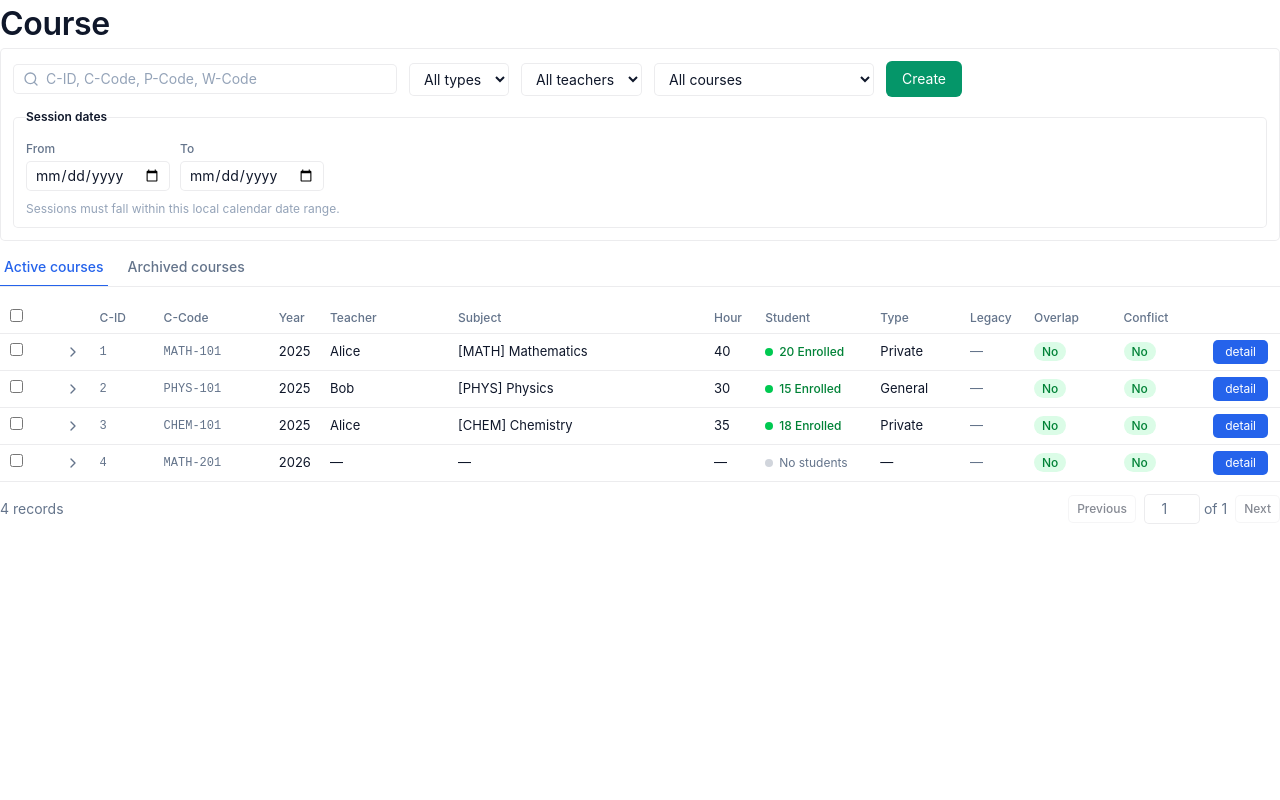
Courses bulk editor › shows partial failure details in toast
expect the text "MATH-101" is shown: met, box [164,344,221,360]
What coordinates should you click on to do the following:
click the checkbox named "Select MATH-101"
I would click on:
 (16, 350)
Its box is [10,343,23,356].
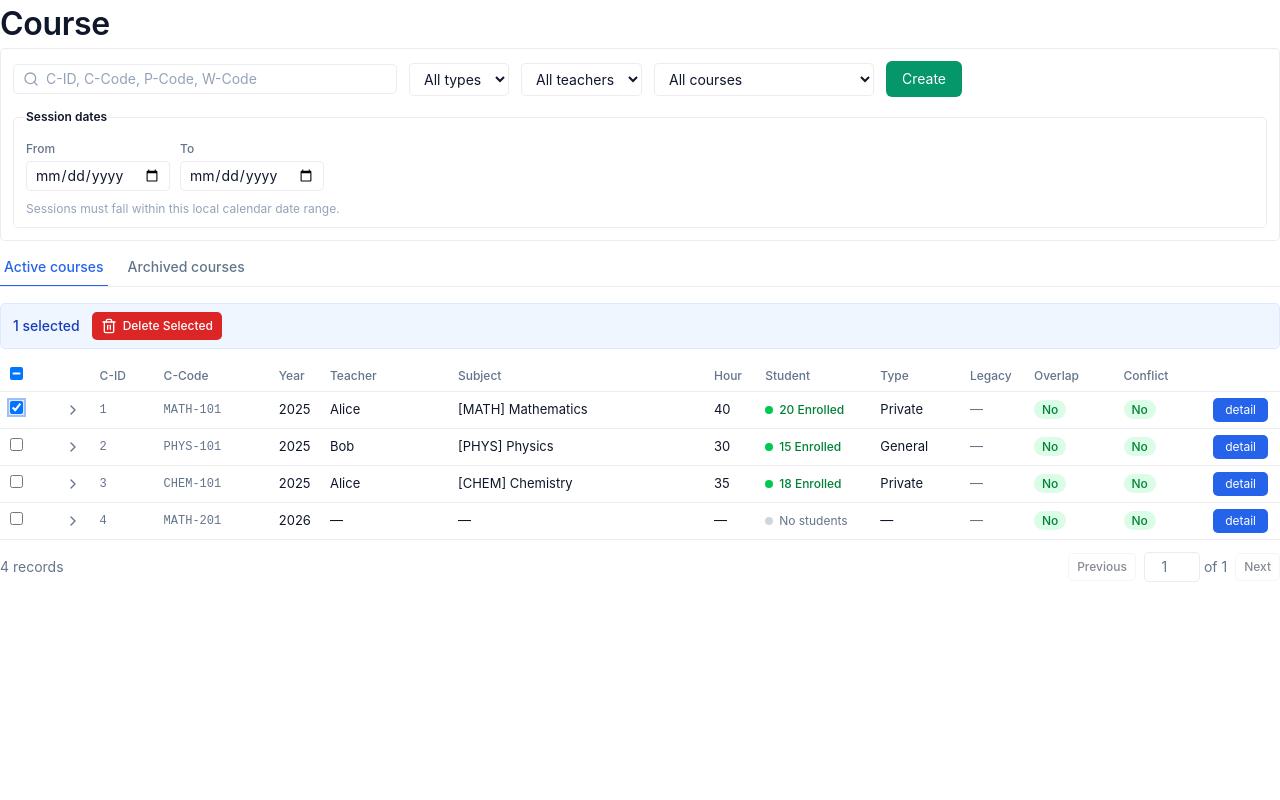
What coordinates should you click on to do the following:
click the checkbox named "Select PHYS-101"
I would click on:
 (16, 445)
Its box is [10,438,23,451].
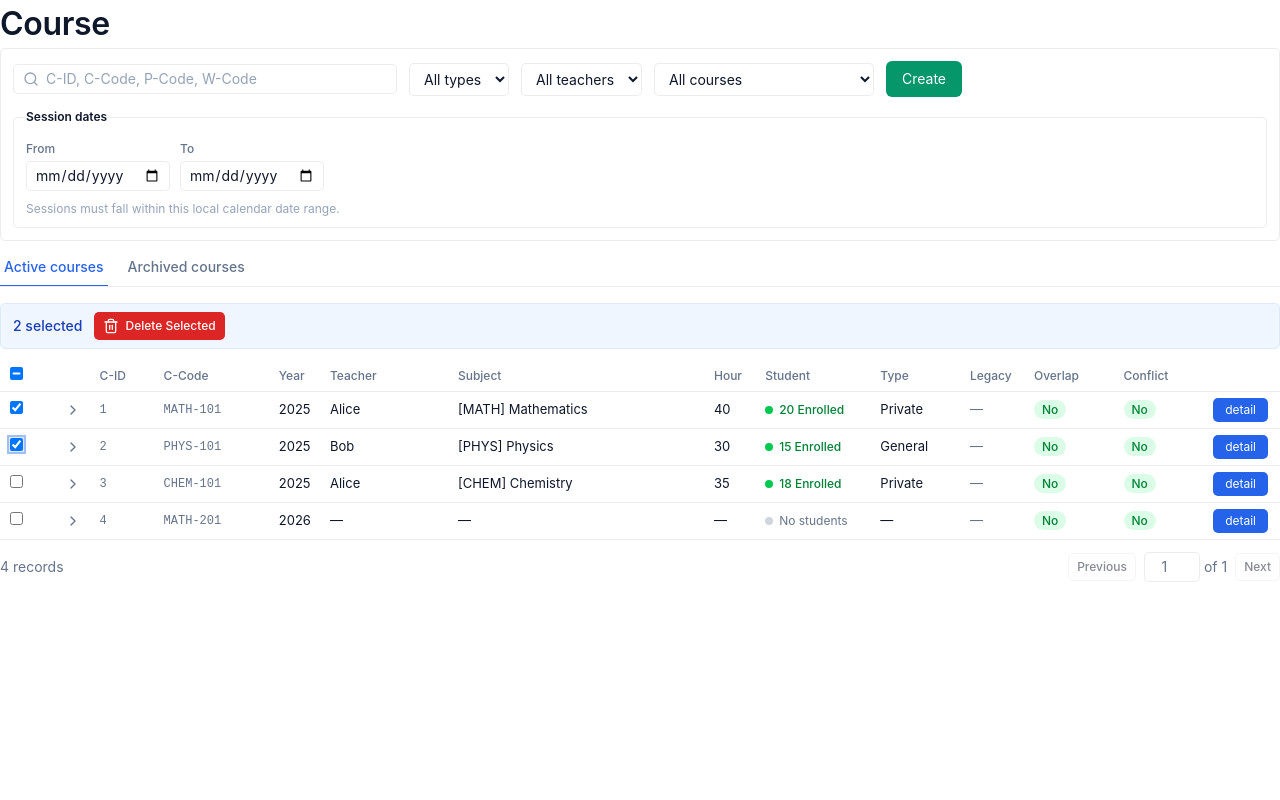
expect the text "2 selected" is shown: met, box [13,316,82,336]
What coordinates should you click on to do the following:
click the button "Delete Selected"
I would click on:
 (160, 326)
Its box is [94,312,225,340].
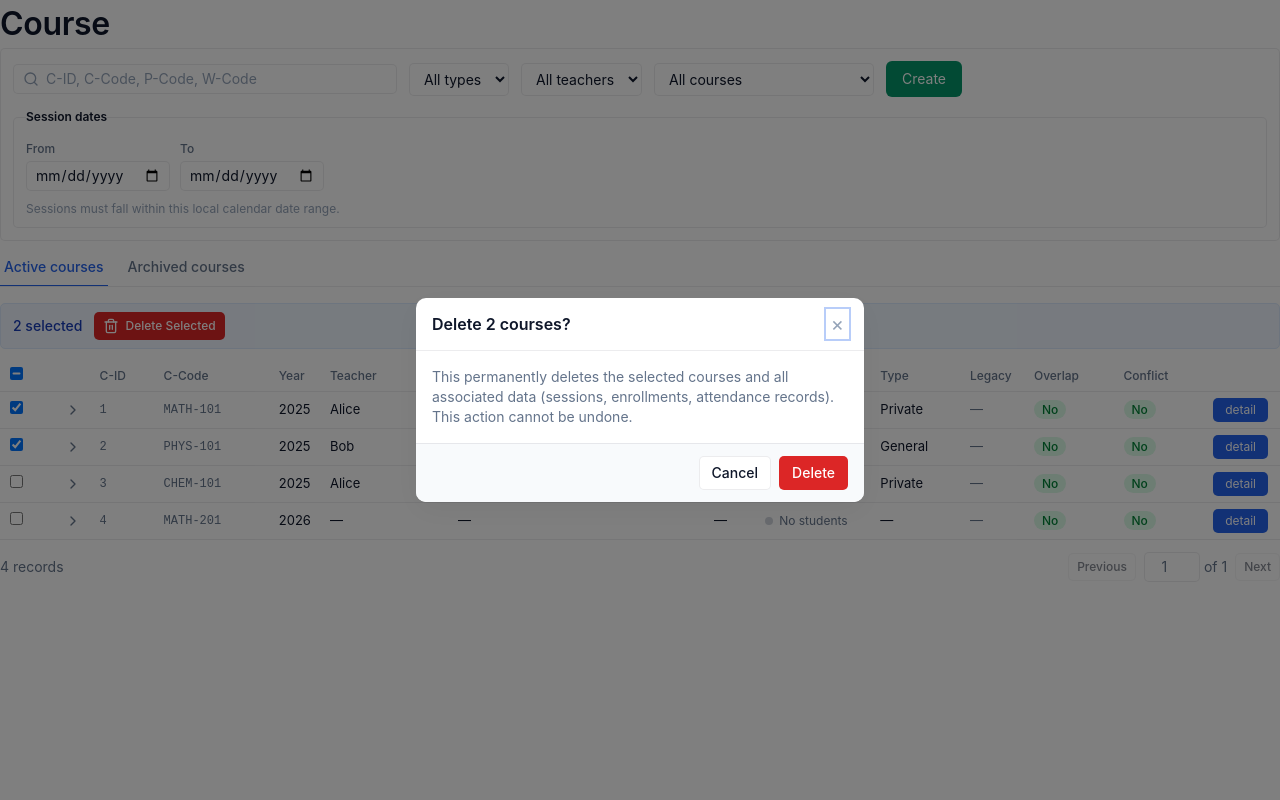
expect the heading "Delete 2 courses?" is shown: met, box [432,312,571,336]
What coordinates should you click on to do the following:
click the button "Delete"
I would click on:
 (814, 473)
Its box is [779,456,848,490].
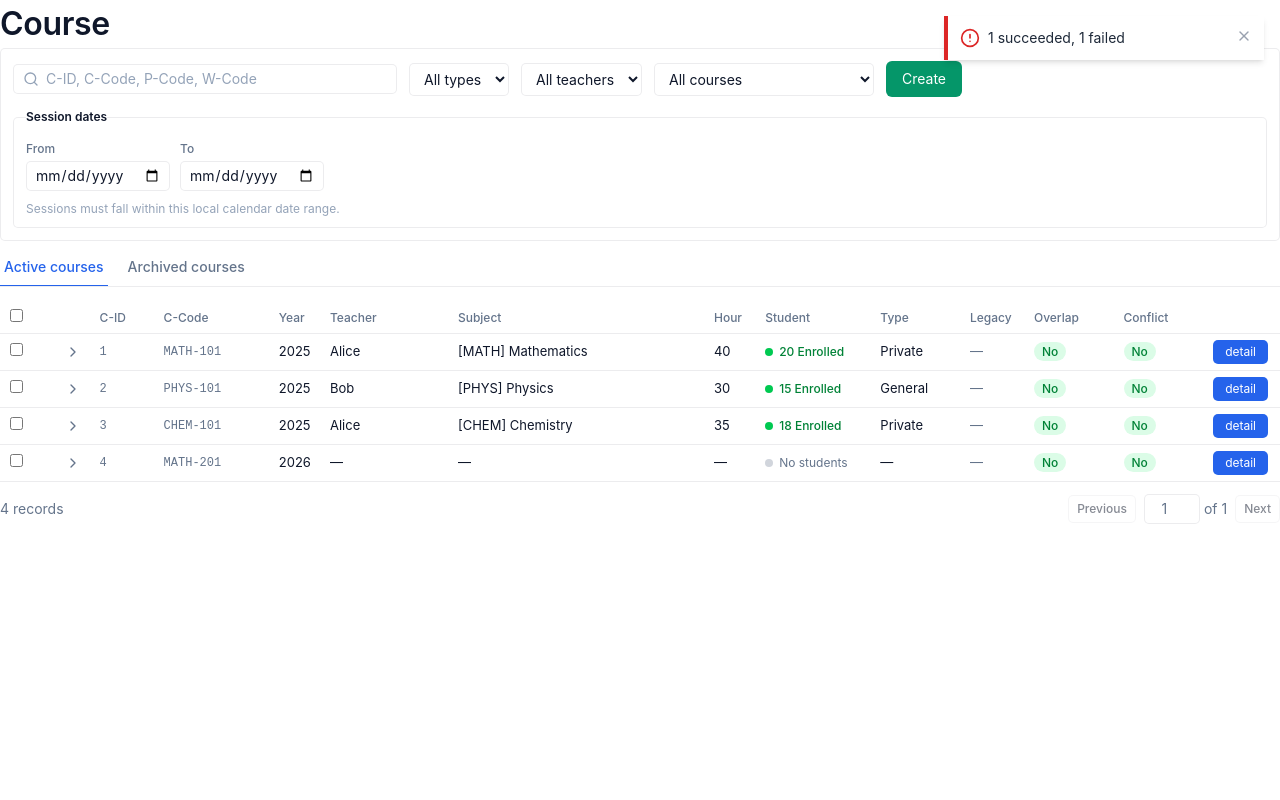
expect the text "1 succeeded, 1 failed" is shown: met, box [988,29,1125,46]
